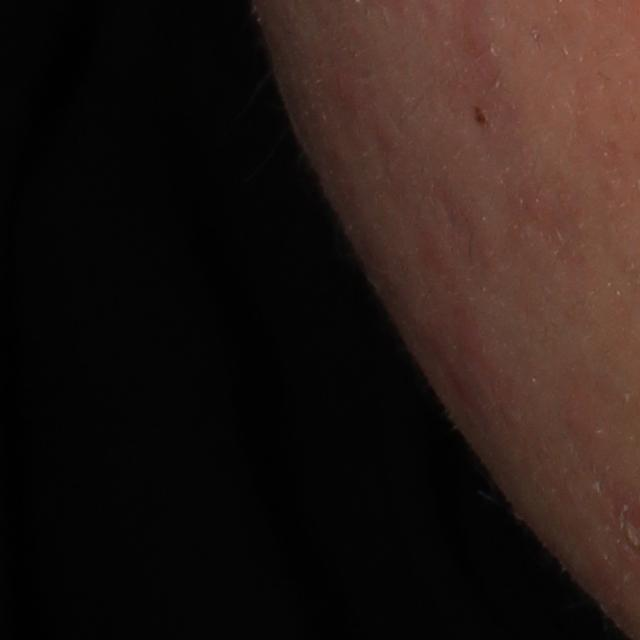nevus: (471, 101, 492, 130)
